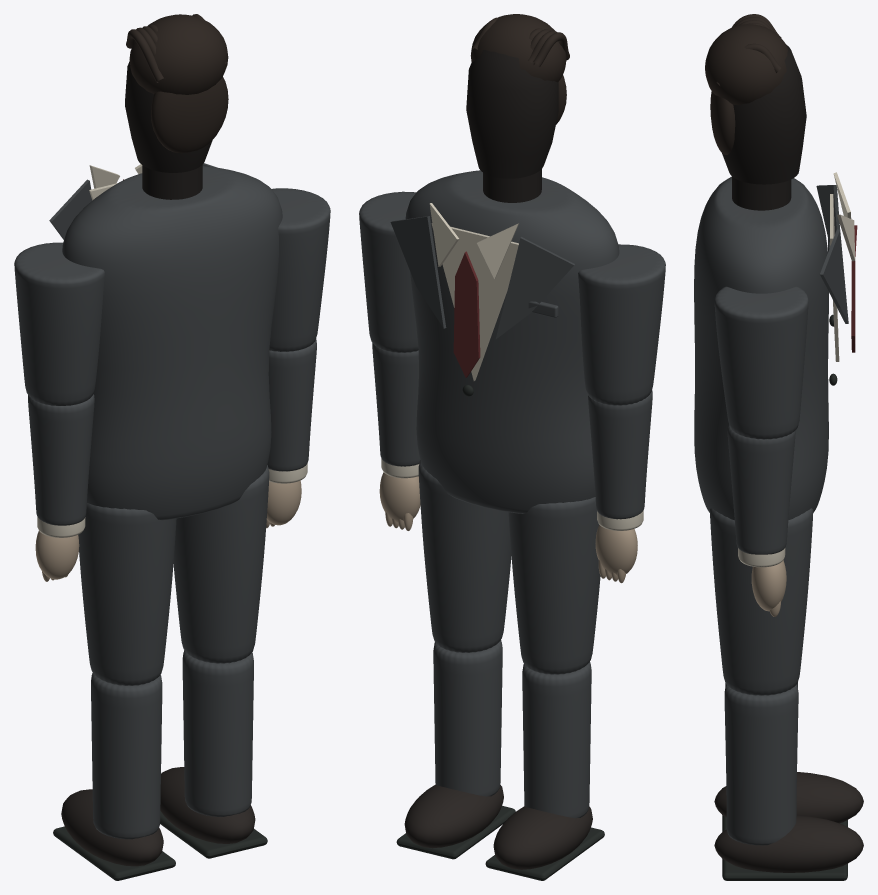
The model's file is guest.glb.
3 views of the same model, side by side, from view 1: azimuth 30°, elevation 25°; view 2: azimuth 150°, elevation 25°; view 3: azimuth 270°, elevation 25° (orthographic). The views are drawn at different scales.
Visible parts, largest first — view 1: GuestJacket, GuestTrouserL, GuestTrouserR, GuestSleeveL, GuestLowerTrouserL, GuestLowerTrouserR, GuestSleeveR, GuestCuffSleeveL, GuestHairCap, GuestCuffSleeveR, GuestHairBack, GuestShoeL (+10 smaller); view 2: GuestJacket, GuestTrouserL, GuestTrouserR, GuestSleeveL, GuestLowerTrouserR, GuestLowerTrouserL, GuestSkull, GuestSleeveR, GuestCuffSleeveL, GuestCuffSleeveR, GuestShoeL, GuestShoeR (+12 smaller); view 3: GuestJacket, GuestTrouserR, GuestSleeveR, GuestLowerTrouserR, GuestCuffSleeveR, GuestSkull, GuestShoeR, GuestHairCap, GuestShoeL, GuestNeck, GuestSoleR, GuestLapel.001 (+7 smaller).
Part boxes in pixels (<box>): GuestJacket: <box>62,166,282,520</box>; GuestTrouserL: <box>78,503,176,685</box>; GuestTrouserR: <box>173,465,269,663</box>; GuestSleeveL: <box>14,242,104,405</box>; GuestLowerTrouserL: <box>91,673,162,839</box>; GuestLowerTrouserR: <box>182,650,253,816</box>; GuestSleeveR: <box>269,188,330,351</box>; GuestCuffSleeveL: <box>28,394,94,525</box>; GuestHairCap: <box>129,14,228,94</box>; GuestCuffSleeveR: <box>267,338,316,471</box>; GuestHairBack: <box>151,77,228,153</box>; GuestShoeL: <box>61,789,163,866</box>; GuestJacket: <box>405,170,619,513</box>; GuestTrouserL: <box>508,497,600,674</box>; GuestTrouserR: <box>418,460,511,652</box>; GuestSleeveL: <box>578,244,665,405</box>; GuestLowerTrouserR: <box>433,640,502,796</box>; GuestLowerTrouserL: <box>522,662,591,818</box>; GuestSkull: <box>466,50,558,178</box>; GuestSleeveR: <box>359,191,418,352</box>; GuestCuffSleeveL: <box>588,390,652,519</box>; GuestCuffSleeveR: <box>372,343,420,466</box>; GuestShoeL: <box>493,806,592,869</box>; GuestShoeR: <box>404,784,503,848</box>; GuestJacket: <box>694,176,828,519</box>; GuestTrouserR: <box>710,508,813,695</box>; GuestSleeveR: <box>714,286,808,439</box>; GuestLowerTrouserR: <box>724,684,798,845</box>; GuestCuffSleeveR: <box>727,424,795,554</box>; GuestSkull: <box>722,44,806,184</box>; GuestShoeR: <box>714,815,863,872</box>; GuestHairCap: <box>705,24,787,105</box>; GuestShoeL: <box>714,772,863,823</box>; GuestNeck: <box>732,176,791,210</box>; GuestSoleR: <box>722,859,847,880</box>; GuestLapel.001: <box>820,229,848,323</box>.
Bounding box in the file's own units: 0.6809 × 1.8 × 0.3386.
